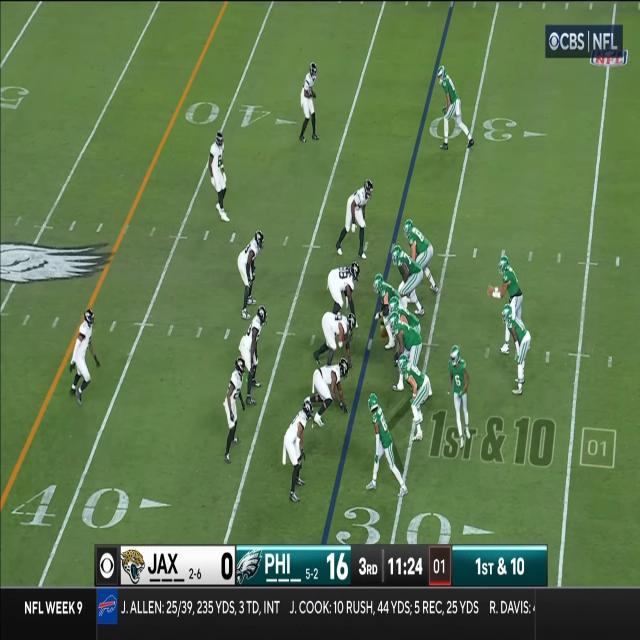Player: (283, 397, 313, 502), (367, 391, 399, 488), (338, 179, 373, 262), (397, 354, 430, 442), (312, 359, 352, 425), (242, 304, 266, 412), (502, 305, 530, 396), (236, 230, 264, 312), (449, 345, 471, 444), (222, 359, 242, 463), (438, 66, 463, 148), (209, 132, 231, 224), (74, 308, 95, 402), (327, 259, 359, 311), (388, 314, 424, 359), (322, 310, 356, 355), (389, 245, 418, 296), (374, 275, 394, 344), (404, 219, 432, 266), (302, 61, 318, 142), (499, 256, 521, 307), (388, 296, 420, 325)
